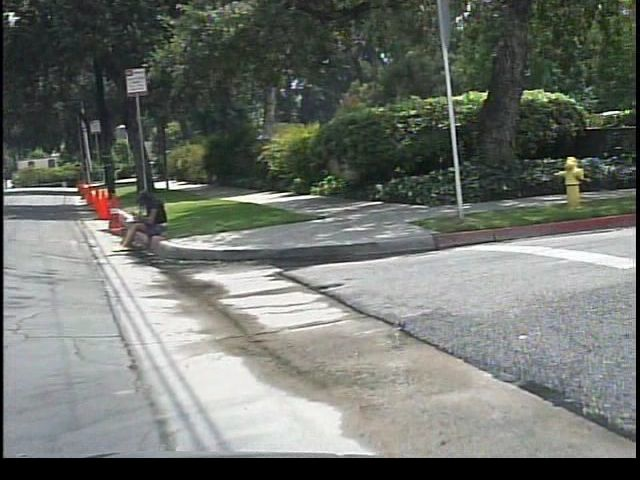person: (116, 187, 175, 252)
